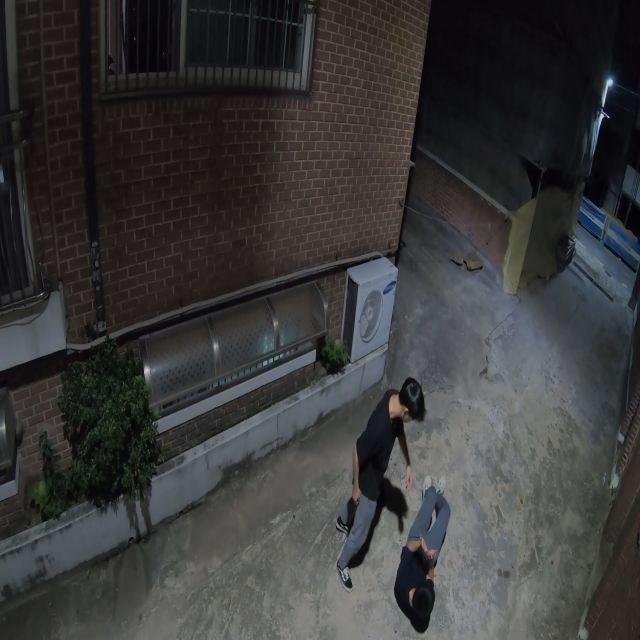fight: (334, 375, 452, 639)
